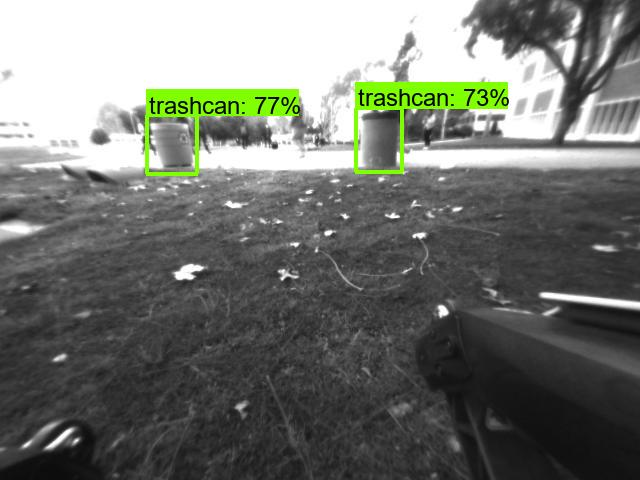trashcan: (358, 110, 406, 175), (146, 120, 197, 174)
